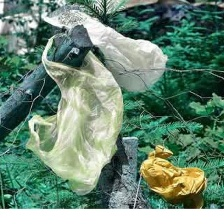plastic_bag: (20, 29, 130, 197), (40, 6, 169, 96), (134, 140, 214, 211)
